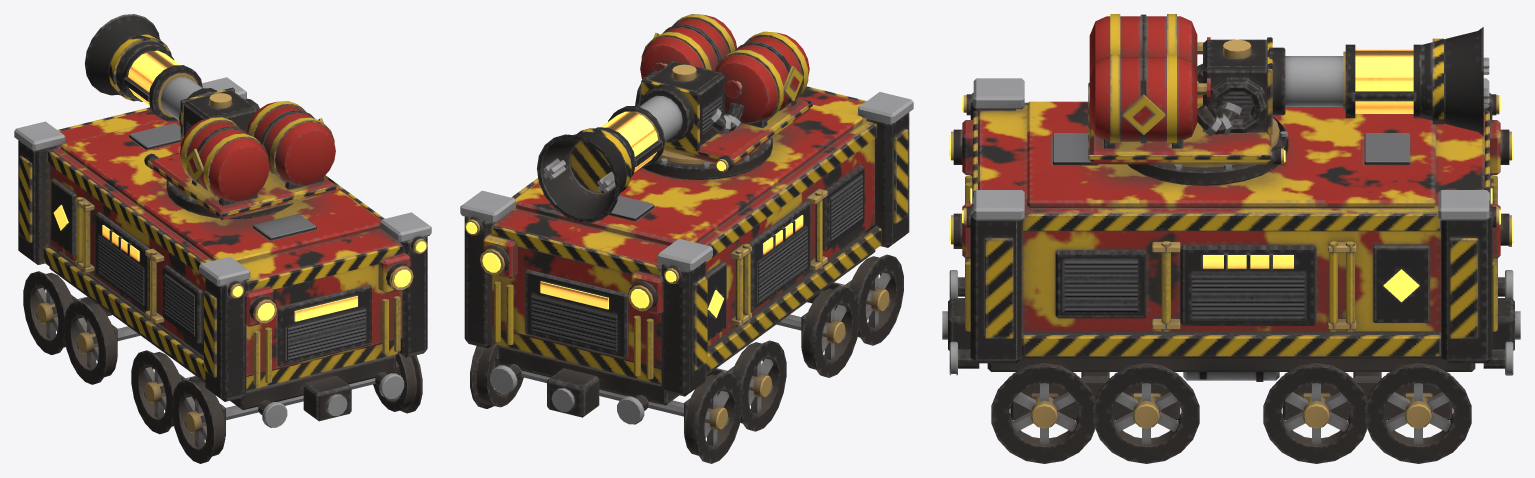
File: SM_DRL_FlameCar.fbx
3 views of the same model, side by side, from view 1: azimuth 30°, elevation 25°; view 2: azimuth 150°, elevation 25°; view 3: azimuth 270°, elevation 25° (orthographic). The views are drawn at different scales.
Parts seen in each view (by area): view 1: Body, Turret, Cannon, Axle_4, Axle_2, Axle_3, Axle_1; view 2: Body, Turret, Cannon, Axle_1, Axle_3, Axle_2, Axle_4; view 3: Body, Turret, Cannon, Axle_1, Axle_3, Axle_2, Axle_4.
Boxes of the visible parts, x1,y1,x2,y2 form: Body: [14, 77, 431, 436]; Turret: [144, 87, 338, 220]; Cannon: [85, 14, 217, 126]; Axle_4: [172, 353, 422, 463]; Axle_2: [63, 301, 140, 384]; Axle_3: [131, 350, 196, 434]; Axle_1: [23, 271, 87, 354]; Body: [460, 86, 913, 433]; Turret: [635, 14, 812, 179]; Cannon: [537, 84, 694, 222]; Axle_1: [470, 344, 742, 463]; Axle_3: [776, 287, 859, 377]; Axle_2: [716, 340, 786, 431]; Axle_4: [833, 254, 903, 345]; Body: [942, 78, 1520, 420]; Turret: [1088, 14, 1288, 185]; Cannon: [1268, 27, 1489, 135]; Axle_1: [1365, 363, 1471, 463]; Axle_3: [1093, 363, 1199, 463]; Axle_2: [1263, 363, 1367, 463]; Axle_4: [991, 363, 1095, 463].
Bounding box in the file's own units: 1.1 × 2.04 × 1.44.
